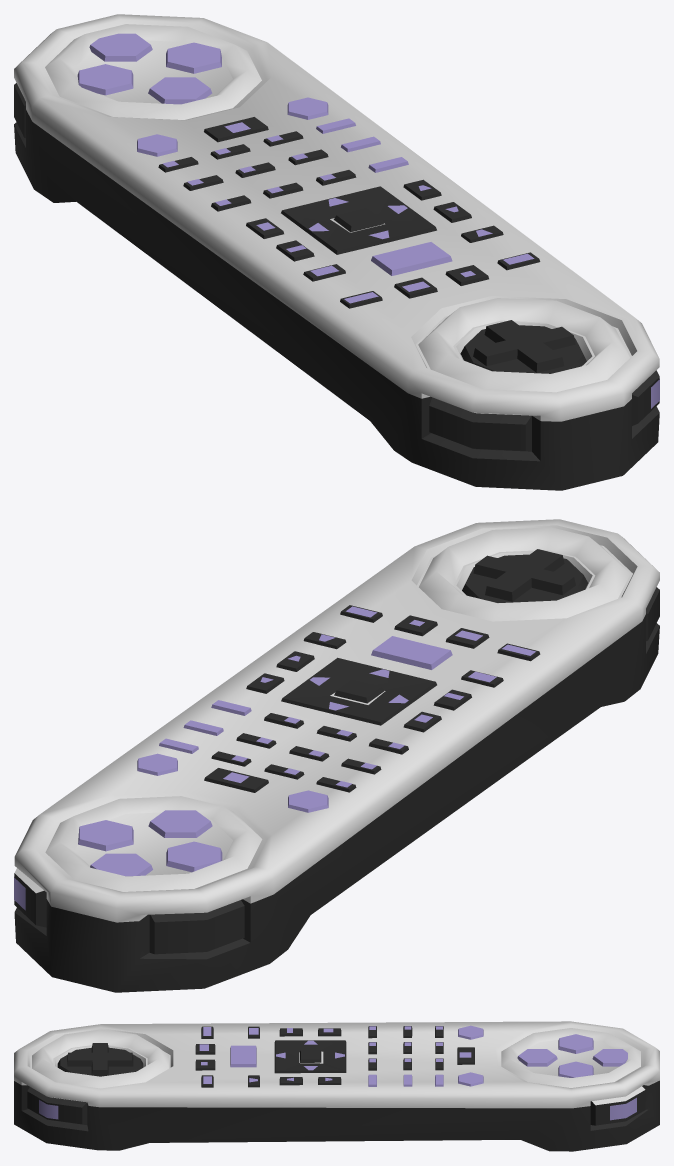
The model's file is GNYK01.FBX.
The picture shows the model from 3 angles, top to bottom: view 1: azimuth 30°, elevation 25°; view 2: azimuth 150°, elevation 25°; view 3: azimuth 270°, elevation 25°; orthographic projection. The views are drawn at different scales.
Visible parts, largest first — view 1: GNYK01; view 2: GNYK01; view 3: GNYK01.
Part boxes in pixels (x1,y1,x2,y2): GNYK01: [14, 14, 659, 490]; GNYK01: [14, 519, 659, 992]; GNYK01: [14, 1021, 659, 1151].
Size of the model in its own units: 5.5 by 20.11 by 2.13.
